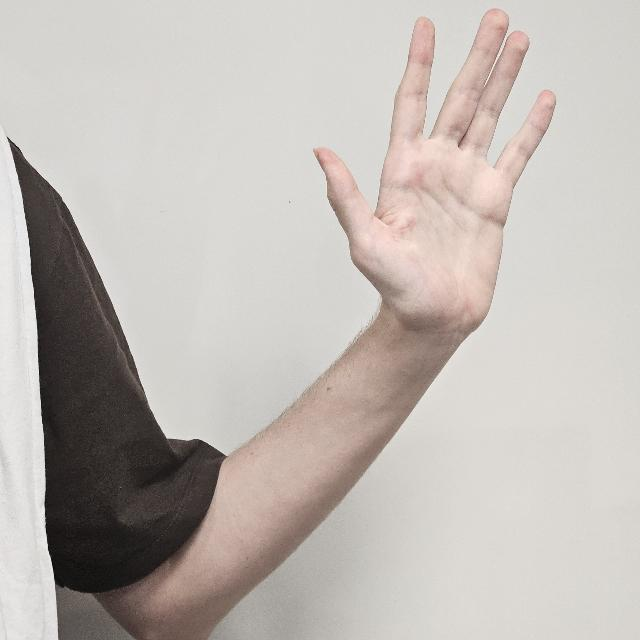X: (314, 9, 554, 369)
